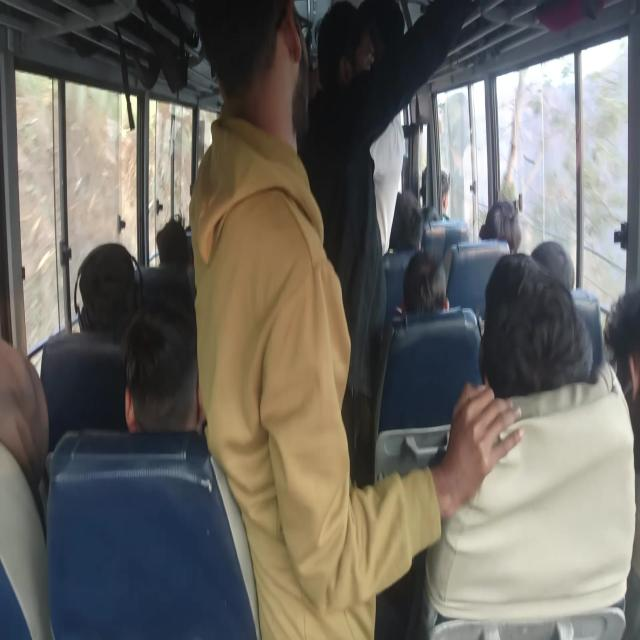person: (120, 297, 214, 450), (187, 0, 289, 99), (498, 299, 573, 383), (0, 344, 40, 490), (611, 292, 640, 434), (80, 246, 134, 305), (403, 249, 440, 328), (400, 198, 440, 245), (536, 238, 572, 282), (488, 197, 520, 241), (164, 224, 194, 268), (428, 168, 451, 214)
